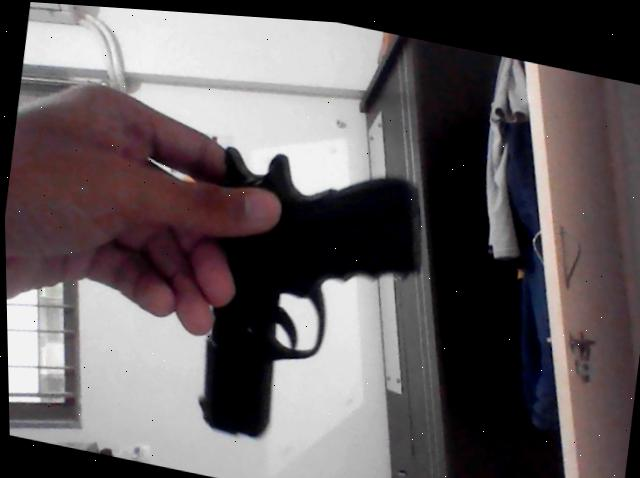pistol: (180, 131, 437, 470)
